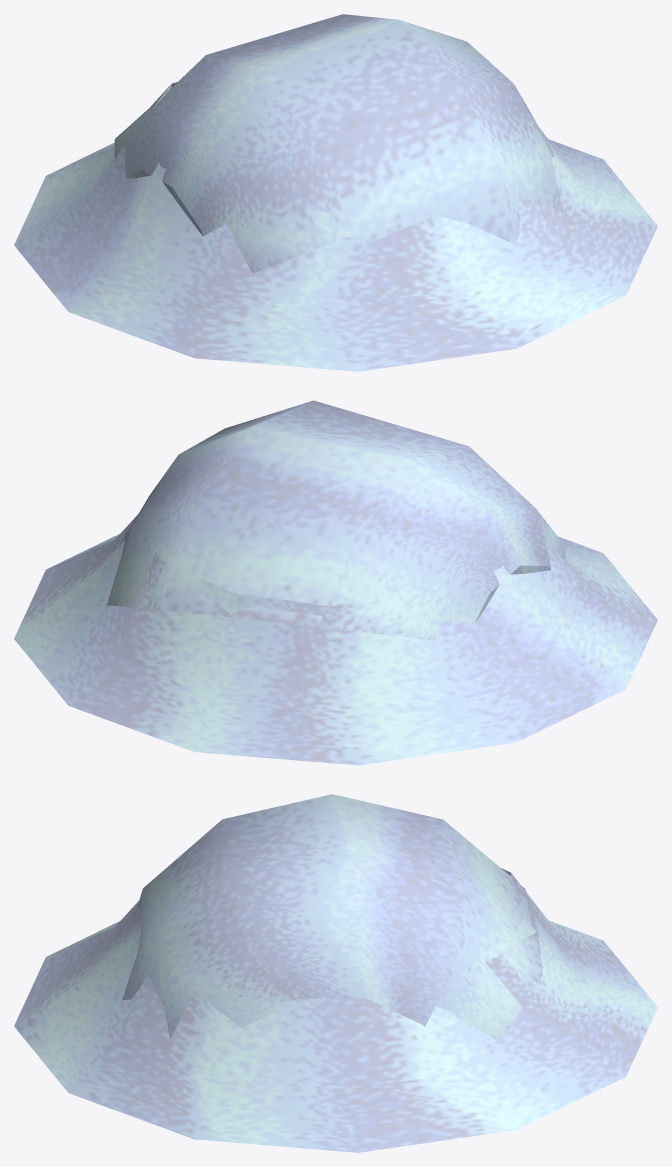
Rendered from SnowPile.obj.
3 views of the same model, one above another, from view 1: azimuth 30°, elevation 25°; view 2: azimuth 150°, elevation 25°; view 3: azimuth 270°, elevation 25° (orthographic).
Visible parts, largest first — view 1: mesh01, mesh02; view 2: mesh01, mesh02; view 3: mesh01, mesh02.
Boxes of the visible parts, left/top/right/bottom form: mesh01: left=14, top=82, right=657, bottom=371; mesh02: left=114, top=14, right=563, bottom=273; mesh01: left=14, top=515, right=657, bottom=765; mesh02: left=107, top=400, right=565, bottom=640; mesh01: left=14, top=868, right=657, bottom=1152; mesh02: left=122, top=794, right=543, bottom=1040.
Size of the model in its own units: 59.7 by 20.02 by 59.7.
1 material, 1 textured.
